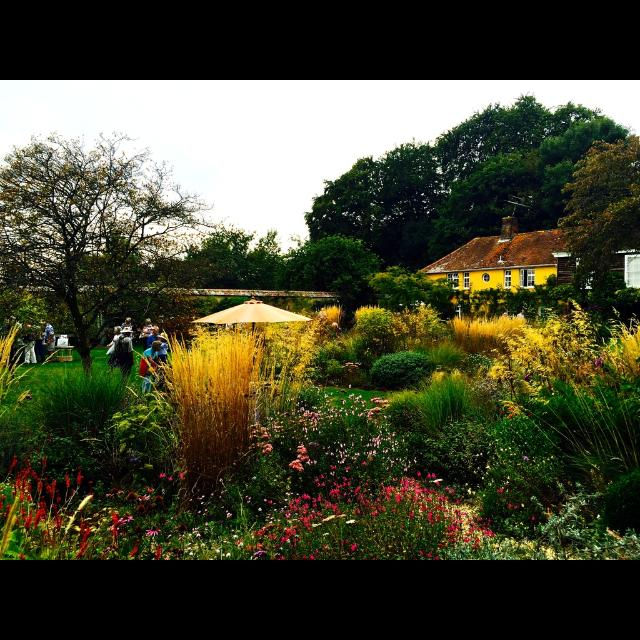Flower: (0, 383, 498, 559)
